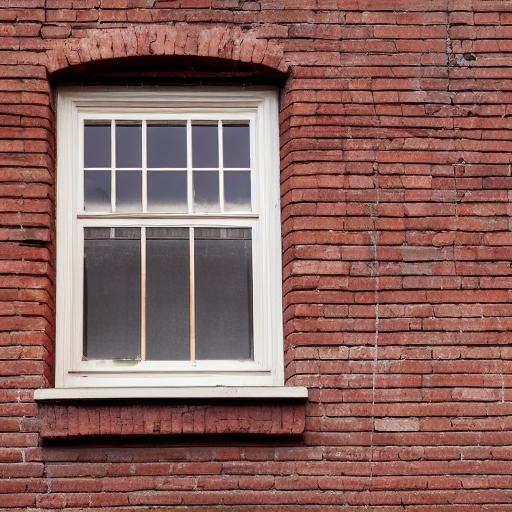Window: (29, 39, 312, 440)
